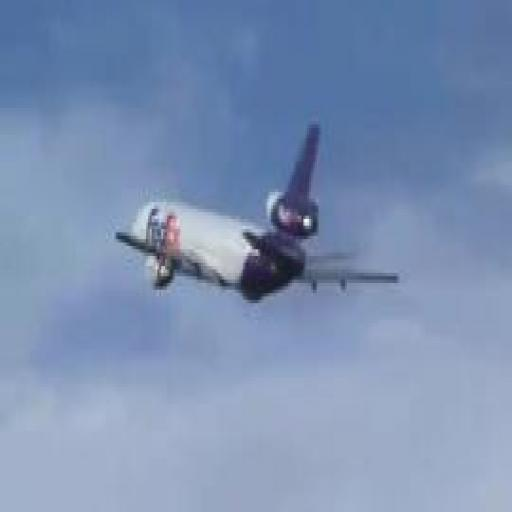aircraft: (116, 124, 400, 306)
